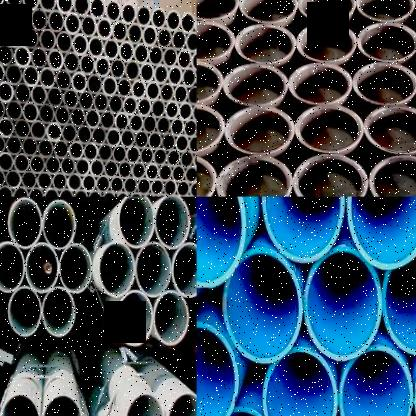pipe: (303, 244, 382, 362), (222, 249, 301, 364), (262, 196, 344, 262), (338, 344, 412, 416), (262, 346, 338, 416), (346, 196, 416, 270), (197, 196, 246, 288), (197, 321, 238, 416), (383, 243, 416, 354), (224, 105, 295, 156), (294, 104, 364, 154), (292, 152, 367, 197), (214, 155, 293, 197), (351, 61, 416, 106), (222, 63, 288, 107), (288, 62, 352, 106), (363, 104, 416, 154), (296, 22, 358, 63), (356, 21, 416, 62), (235, 24, 296, 64), (368, 154, 416, 197), (100, 241, 136, 298), (135, 242, 171, 298), (154, 290, 190, 346), (118, 289, 152, 346), (118, 197, 155, 248), (154, 197, 190, 248), (8, 197, 42, 249), (26, 242, 60, 293), (42, 286, 75, 338), (42, 200, 76, 250), (9, 286, 42, 337), (60, 243, 92, 294), (196, 20, 234, 61), (237, 0, 298, 24), (197, 104, 224, 154), (296, 0, 356, 22), (355, 0, 415, 22), (172, 242, 196, 297), (196, 59, 224, 105), (0, 241, 25, 292), (125, 392, 165, 416), (41, 395, 83, 416), (197, 0, 238, 21), (0, 394, 41, 415), (166, 393, 196, 416), (47, 8, 65, 33), (64, 11, 81, 36), (96, 16, 113, 41), (39, 27, 56, 52), (13, 45, 31, 68), (13, 6, 30, 30), (31, 7, 48, 31), (80, 14, 97, 38), (5, 24, 22, 48), (22, 26, 39, 50), (31, 46, 48, 70), (47, 48, 64, 72), (63, 50, 80, 74), (55, 67, 71, 92), (13, 82, 31, 104), (5, 63, 22, 86), (72, 32, 88, 56), (139, 60, 155, 84), (30, 119, 47, 141), (136, 4, 152, 27), (171, 29, 187, 52), (56, 30, 72, 53), (88, 35, 104, 58), (103, 37, 119, 60), (23, 64, 39, 87), (71, 70, 87, 93), (142, 24, 157, 48), (157, 26, 172, 50), (148, 43, 163, 67), (80, 52, 95, 76), (22, 102, 39, 123), (38, 103, 55, 124), (39, 67, 56, 88), (31, 84, 47, 106), (47, 86, 63, 108), (14, 118, 30, 140), (46, 121, 62, 143), (118, 40, 134, 62), (162, 46, 178, 68), (86, 73, 102, 95), (121, 2, 136, 25), (166, 9, 181, 32), (127, 22, 142, 45), (61, 123, 78, 143), (13, 153, 30, 173), (29, 154, 46, 174), (5, 169, 22, 189), (89, 0, 106, 20), (116, 77, 132, 98), (63, 88, 79, 109), (78, 90, 94, 111), (93, 92, 109, 113), (6, 100, 22, 121), (54, 105, 70, 126), (6, 135, 22, 156), (22, 136, 38, 157), (53, 139, 69, 160), (68, 140, 84, 161), (21, 169, 37, 190), (105, 0, 121, 21), (181, 11, 195, 35), (110, 58, 126, 79), (131, 78, 146, 100), (159, 81, 174, 103), (108, 93, 123, 115), (70, 106, 85, 128), (151, 7, 166, 29), (112, 20, 127, 42), (154, 63, 169, 85), (102, 75, 117, 97), (0, 3, 13, 28), (0, 42, 14, 65), (99, 110, 115, 130), (91, 126, 107, 146), (45, 155, 61, 175), (60, 156, 76, 176), (75, 157, 91, 177), (81, 173, 97, 193), (145, 80, 160, 101), (173, 83, 188, 104), (85, 108, 100, 129), (114, 111, 129, 132), (77, 124, 92, 145), (83, 141, 98, 162), (37, 170, 52, 191), (134, 43, 149, 64), (95, 56, 110, 77), (125, 60, 140, 81), (168, 65, 183, 86), (182, 67, 197, 88), (177, 48, 191, 70), (97, 143, 113, 162), (123, 96, 138, 116), (137, 97, 152, 117), (142, 114, 157, 134), (156, 115, 171, 135), (106, 127, 121, 147), (134, 129, 149, 149), (161, 132, 176, 152), (38, 138, 53, 158), (153, 147, 168, 167), (166, 148, 181, 168), (67, 172, 82, 192), (123, 176, 138, 196), (0, 80, 13, 103), (165, 99, 179, 120), (129, 112, 143, 133), (148, 130, 162, 151), (112, 143, 126, 164), (140, 145, 154, 166), (90, 158, 105, 177), (103, 159, 118, 178), (131, 161, 146, 180), (52, 172, 67, 191), (151, 98, 165, 118), (178, 101, 192, 121), (170, 117, 184, 137), (0, 117, 14, 137), (183, 118, 197, 138), (121, 128, 135, 148), (145, 162, 159, 182), (185, 30, 197, 53), (72, 0, 89, 16), (175, 134, 189, 153), (126, 145, 140, 164), (118, 160, 132, 179), (158, 163, 172, 182), (96, 174, 110, 193), (110, 175, 124, 194), (137, 177, 151, 196), (163, 178, 177, 197), (0, 151, 13, 171), (180, 150, 194, 168), (172, 164, 185, 183), (151, 178, 164, 197), (184, 165, 197, 183), (176, 179, 189, 197), (55, 0, 72, 13), (187, 84, 197, 105), (12, 185, 28, 197), (187, 135, 197, 154), (38, 0, 55, 11), (28, 185, 43, 197), (43, 186, 59, 197), (0, 184, 13, 196), (21, 0, 38, 9), (58, 187, 73, 197), (72, 188, 88, 197), (88, 188, 102, 197), (4, 0, 22, 7), (190, 180, 197, 197), (0, 97, 5, 120), (0, 61, 5, 84), (101, 190, 116, 197), (191, 50, 196, 71), (0, 134, 5, 154), (0, 168, 5, 188), (0, 22, 4, 46), (192, 103, 196, 122), (192, 151, 196, 170), (128, 191, 143, 196), (115, 191, 129, 196), (155, 192, 169, 196), (142, 192, 155, 196), (0, 0, 4, 6)
